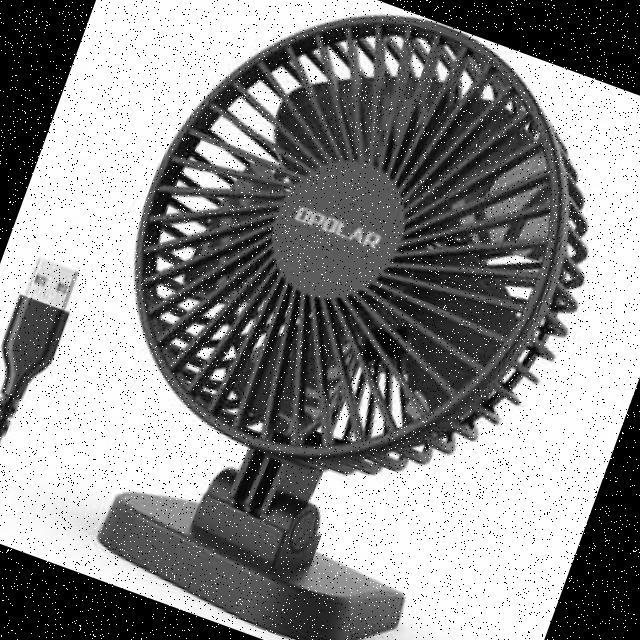fan: (72, 0, 640, 543)
